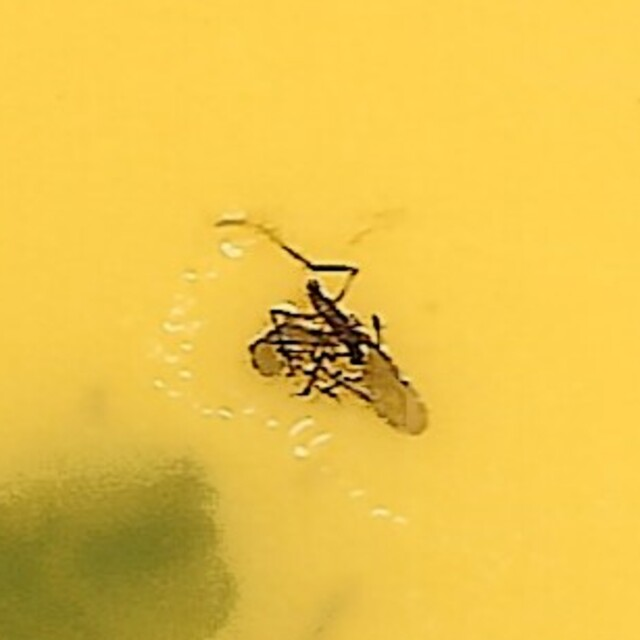Nematocera: (208, 204, 432, 436)
